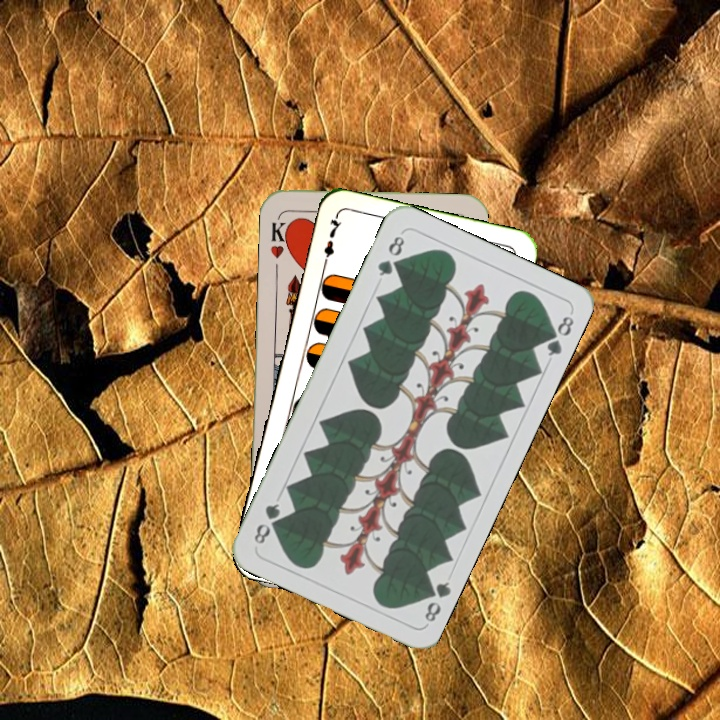E7: (318, 213, 344, 271)
G8: (419, 577, 453, 627), (373, 231, 407, 279)
HK: (266, 217, 293, 261)
